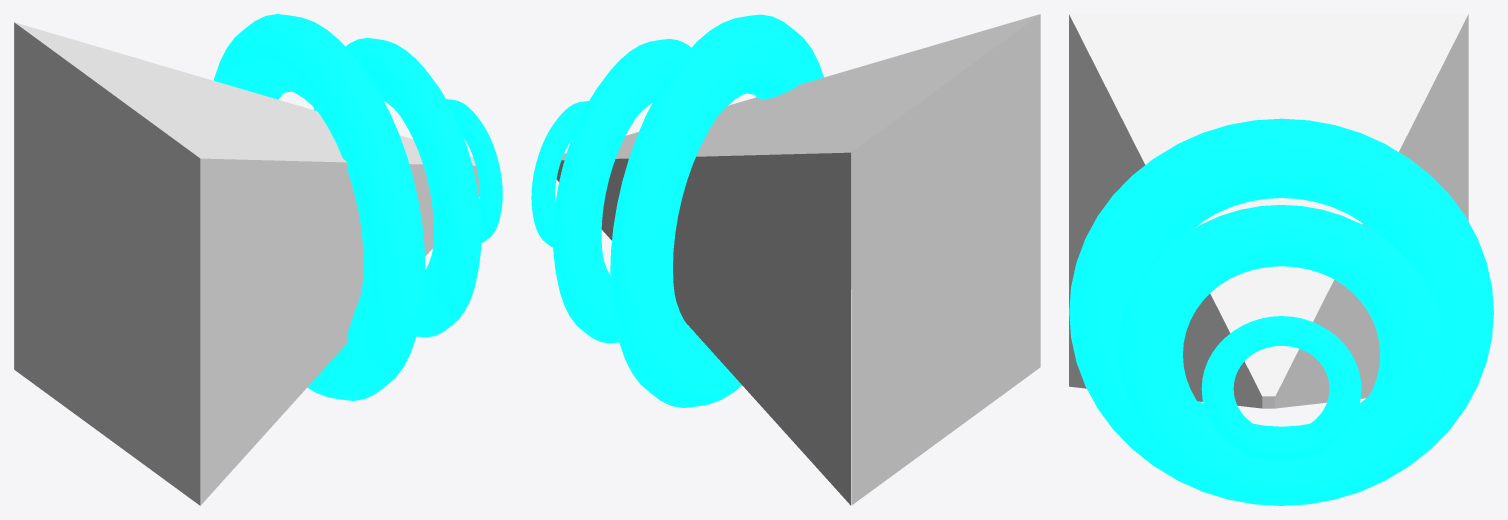
File: freezegun.fbx
3 renders of one model, left to right at view 1: azimuth 30°, elevation 25°; view 2: azimuth 150°, elevation 25°; view 3: azimuth 270°, elevation 25°, orthographic. The views are drawn at different scales.
Visible parts, largest first — view 1: Cube; view 2: Cube; view 3: Cube.
Boxes of the visible parts, x1=… form: Cube: x1=14, y1=14, x2=502, y2=505; Cube: x1=531, y1=14, x2=1040, y2=505; Cube: x1=1069, y1=14, x2=1493, y2=505.
Size of the model in its own units: 111 by 98.15 by 98.2.
